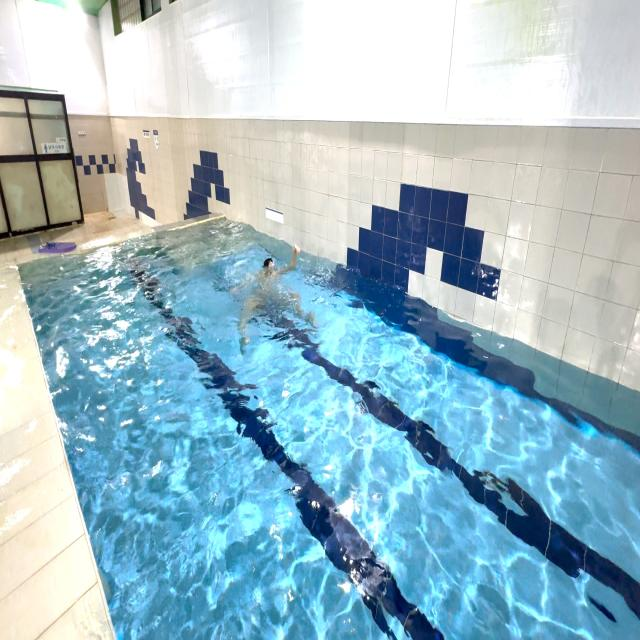Drowning: (232, 236, 316, 354)
